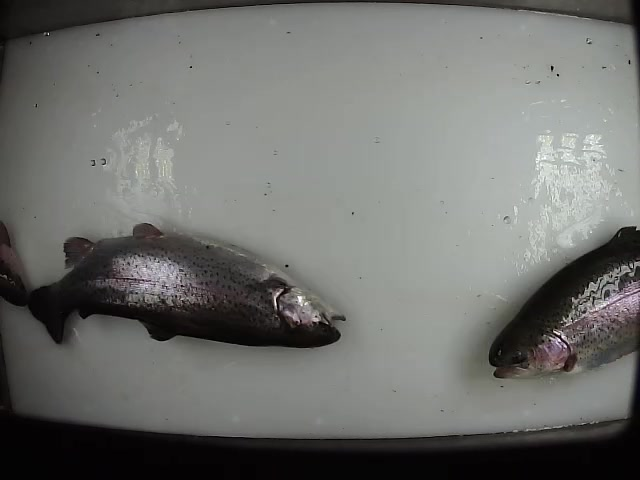fish: (27, 220, 349, 346), (486, 225, 640, 382)
